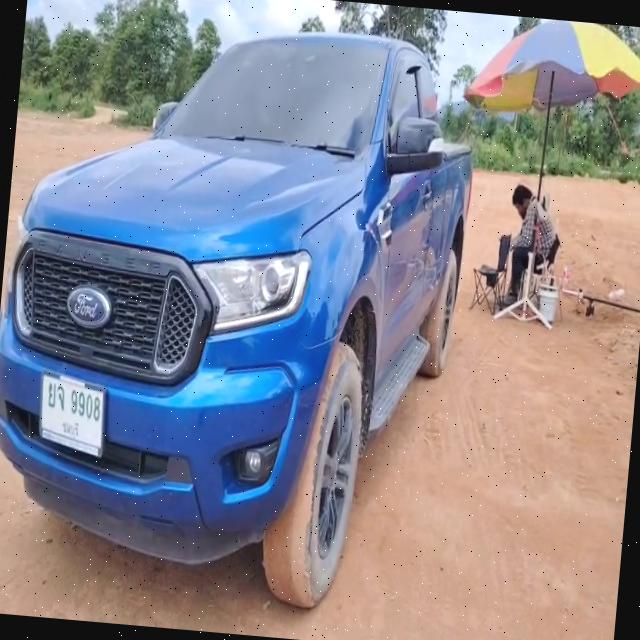Digit: (70, 389, 100, 421)
Licenseplate: (39, 371, 105, 456)
Provincename: (62, 416, 79, 440)
Thaichar: (47, 381, 64, 413)
